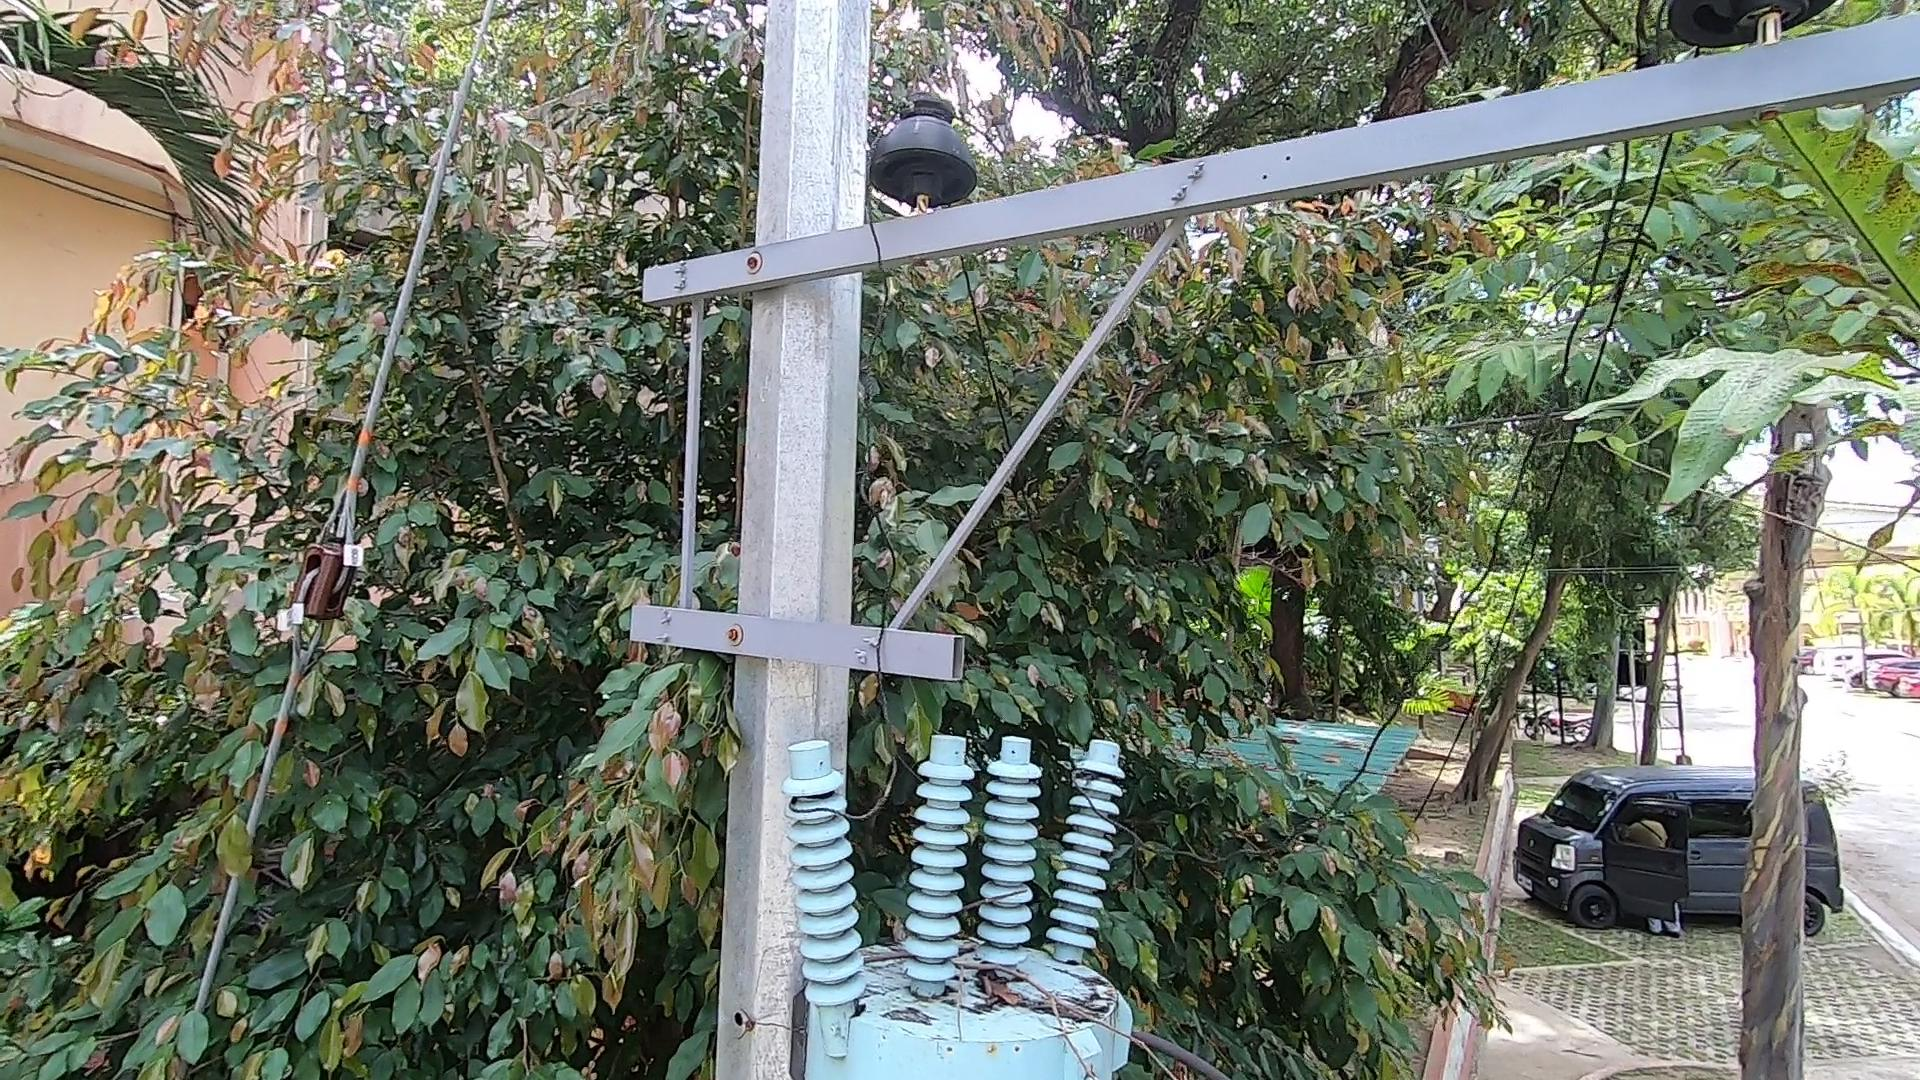leaf: (957, 948, 1029, 1011)
tree branch: (844, 938, 1232, 1077)
